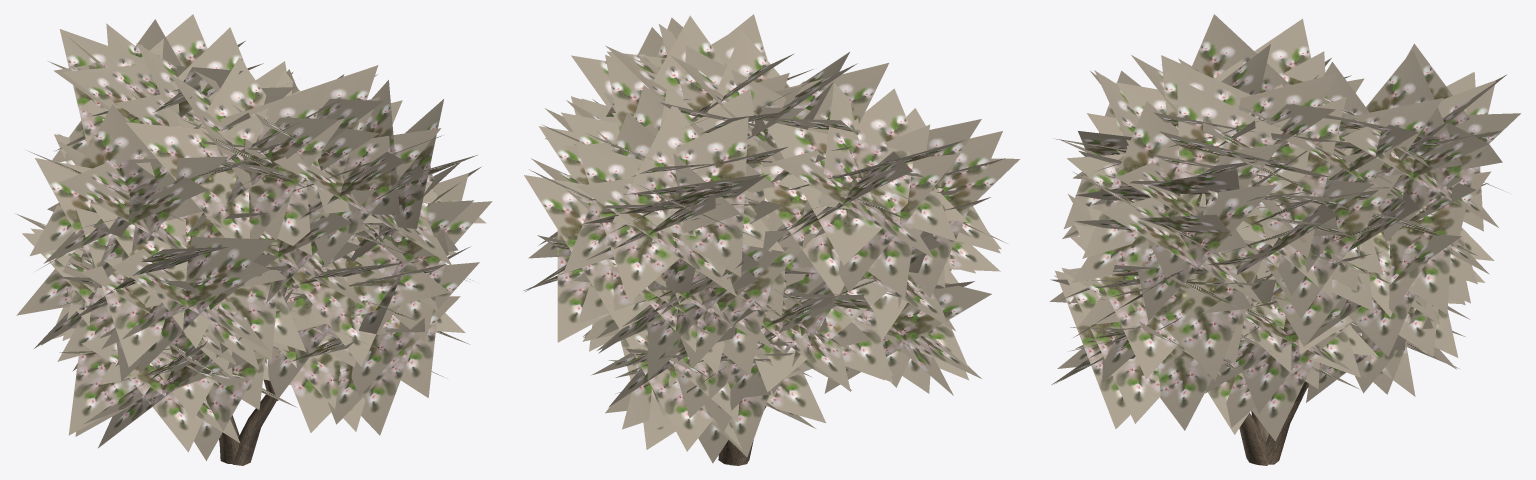
Rendered from Cerasus_Yedoensis_Spring_Young.glb.
The picture shows the model from 3 angles, left to right: view 1: azimuth 30°, elevation 25°; view 2: azimuth 150°, elevation 25°; view 3: azimuth 270°, elevation 25°; orthographic projection. The views are drawn at different scales.
Visible parts, largest first — view 1: Cerasus_Yedoensis_Spring_Young__LOD3; view 2: Cerasus_Yedoensis_Spring_Young__LOD3; view 3: Cerasus_Yedoensis_Spring_Young__LOD3.
Boxes of the visible parts, <box> form: Cerasus_Yedoensis_Spring_Young__LOD3: <box>15,14,492,465</box>; Cerasus_Yedoensis_Spring_Young__LOD3: <box>523,14,1019,465</box>; Cerasus_Yedoensis_Spring_Young__LOD3: <box>1049,14,1520,465</box>.
Bounding box in the file's own units: 4.77 × 4.07 × 4.64.
2 materials, 2 textured.
